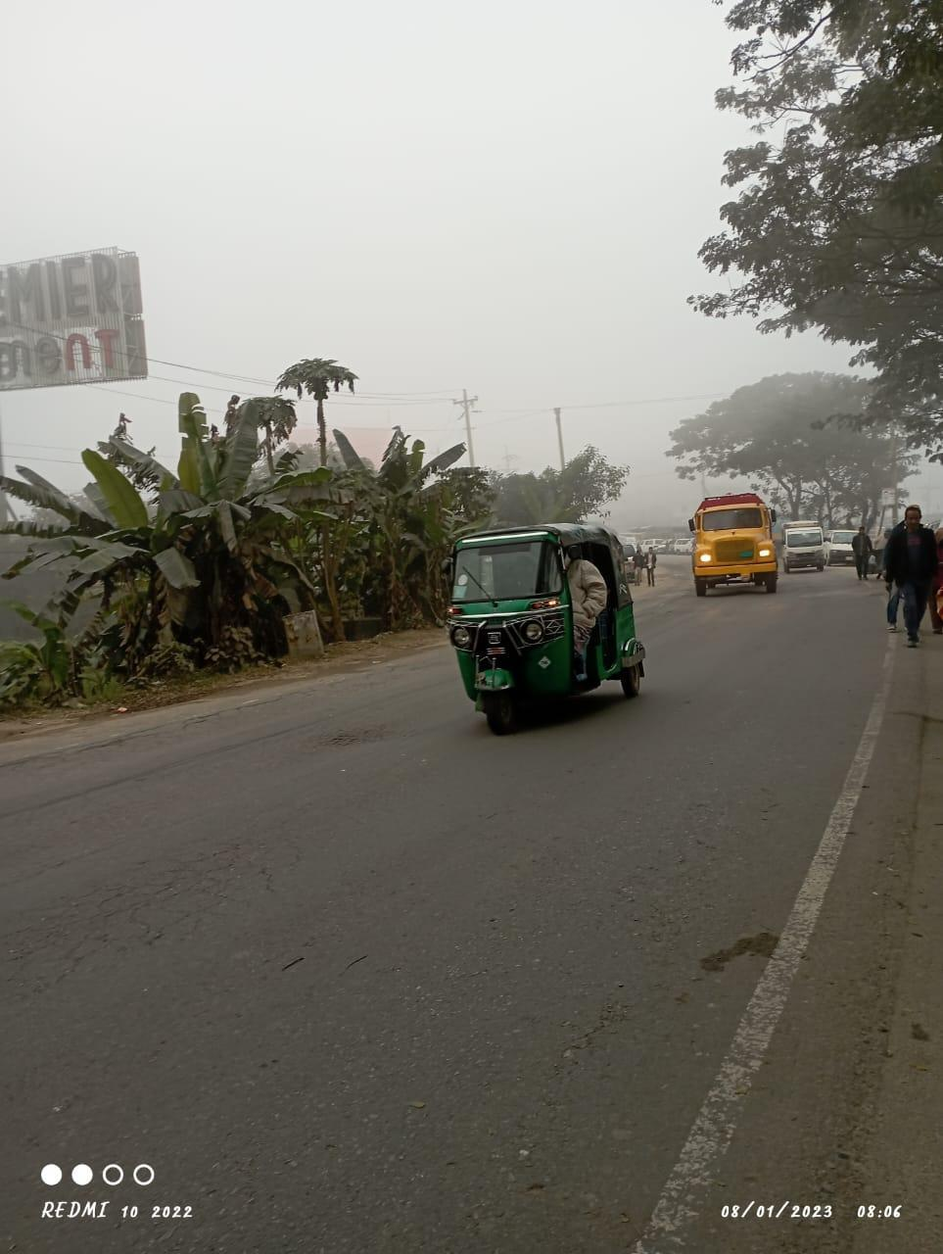Car: (776, 508, 834, 585)
Truck: (684, 493, 783, 596)
